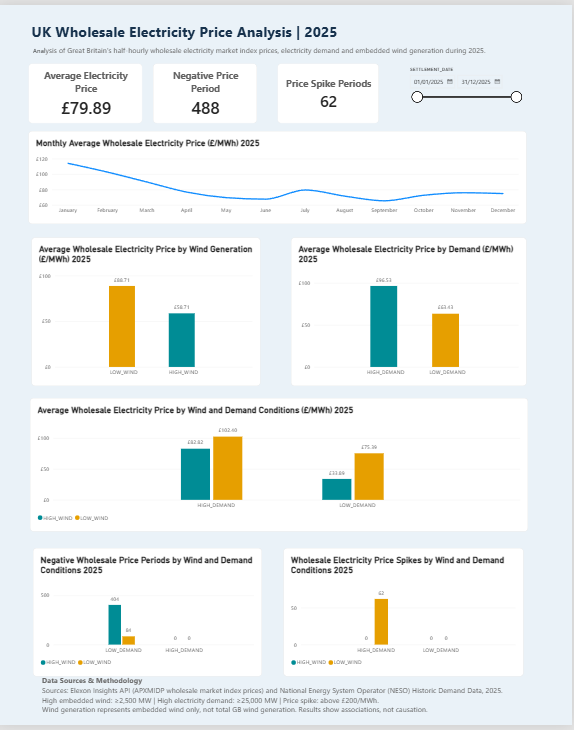

Layout of this report page (visuals, bound fields, positions):
{"tool":"powerbi","page":{"name":"Page 1","canvas":[1280,1600],"ordinal":0},"visuals":[{"type":"cardVisual","fields":{"Data":["POWERBI_ELECTRICITY_2025.Average Electricity Price"]},"box":[70,130,253.3,133.3],"z":0},{"type":"cardVisual","fields":{"Data":["Sum(POWERBI_ELECTRICITY_2025.NEGATIVE_PRICE_FLAG)"]},"box":[346.7,130,231.7,133.3],"z":1000},{"type":"cardVisual","fields":{"Data":["POWERBI_ELECTRICITY_2025.Price Spike Periods"]},"box":[623.3,130,225,133.3],"z":2000},{"type":"lineChart","title":"Monthly Average Wholesale Electricity Price (£/MWh) 2025","fields":{"Category":["POWERBI_ELECTRICITY_2025.SETTLEMENT_DATE.Variation.Date Hierarchy.Month"],"Y":["POWERBI_ELECTRICITY_2025.Average Electricity Price"]},"box":[70,280,1106.7,206.7],"z":3000},{"type":"clusteredColumnChart","title":"Average Wholesale Electricity Price by Wind Generation (£/MWh) 2025","fields":{"Category":["POWERBI_ELECTRICITY_2025.WIND_CATEGORY"],"Y":["POWERBI_ELECTRICITY_2025.Average Electricity Price"]},"box":[76.7,515,508.3,330],"z":4000},{"type":"clusteredColumnChart","title":"Average Wholesale Electricity Price by Demand (£/MWh) 2025","fields":{"Category":["POWERBI_ELECTRICITY_2025.DEMAND_CATEGORY"],"Y":["POWERBI_ELECTRICITY_2025.Average Electricity Price"]},"box":[653.3,515,523.3,330],"z":5000},{"type":"clusteredColumnChart","title":"Average Wholesale Electricity Price by Wind and Demand Conditions (£/MWh) 2025","fields":{"Category":["POWERBI_ELECTRICITY_2025.DEMAND_CATEGORY"],"Series":["POWERBI_ELECTRICITY_2025.WIND_CATEGORY"],"Y":["POWERBI_ELECTRICITY_2025.Average Electricity Price"]},"box":[73.3,873.3,1106.7,296.7],"z":6000},{"type":"clusteredColumnChart","title":"Negative Wholesale Price Periods by Wind and Demand Conditions 2025","fields":{"Category":["POWERBI_ELECTRICITY_2025.DEMAND_CATEGORY"],"Series":["POWERBI_ELECTRICITY_2025.WIND_CATEGORY"],"Y":["Sum(POWERBI_ELECTRICITY_2025.NEGATIVE_PRICE_FLAG)"]},"box":[78.3,1205,508.3,285],"z":7000},{"type":"clusteredColumnChart","title":"Wholesale Electricity Price Spikes by Wind and Demand Conditions 2025","fields":{"Category":["POWERBI_ELECTRICITY_2025.DEMAND_CATEGORY"],"Series":["POWERBI_ELECTRICITY_2025.WIND_CATEGORY"],"Y":["POWERBI_ELECTRICITY_2025.Price Spike Periods"]},"box":[636.7,1205,533.3,285],"z":8000},{"type":"textbox","box":[76.7,36.7,1040,53.3],"z":9000},{"type":"textbox","box":[76.7,1533.3,1100,66.7],"z":10000},{"type":"slicer","fields":{"Values":["POWERBI_ELECTRICITY_2025.SETTLEMENT_DATE"]},"box":[910,136.7,260,120],"z":11000},{"type":"textbox","box":[100,1490,1120,110],"z":11001},{"type":"textbox","box":[80,90,1013.3,106.7],"z":11002}]}

Visuals, with their boxes in screenshot pixels (x1, y1, x2, y2), scaled from the page's 1280x1600 canvas onto the 574x730 screenshot:
cardVisual - POWERBI_ELECTRICITY_2025.Average Electricity Price: [x1=31, y1=59, x2=145, y2=120]
cardVisual - Sum(POWERBI_ELECTRICITY_2025.NEGATIVE_PRICE_FLAG): [x1=155, y1=59, x2=259, y2=120]
cardVisual - POWERBI_ELECTRICITY_2025.Price Spike Periods: [x1=280, y1=59, x2=380, y2=120]
"Monthly Average Wholesale Electricity Price (£/MWh) 2025" lineChart: [x1=31, y1=128, x2=528, y2=222]
"Average Wholesale Electricity Price by Wind Generation (£/MWh) 2025" clusteredColumnChart: [x1=34, y1=235, x2=262, y2=386]
"Average Wholesale Electricity Price by Demand (£/MWh) 2025" clusteredColumnChart: [x1=293, y1=235, x2=528, y2=386]
"Average Wholesale Electricity Price by Wind and Demand Conditions (£/MWh) 2025" clusteredColumnChart: [x1=33, y1=398, x2=529, y2=534]
"Negative Wholesale Price Periods by Wind and Demand Conditions 2025" clusteredColumnChart: [x1=35, y1=550, x2=263, y2=680]
"Wholesale Electricity Price Spikes by Wind and Demand Conditions 2025" clusteredColumnChart: [x1=286, y1=550, x2=525, y2=680]
textbox: [x1=34, y1=17, x2=501, y2=41]
textbox: [x1=34, y1=700, x2=528, y2=729]
slicer - POWERBI_ELECTRICITY_2025.SETTLEMENT_DATE: [x1=408, y1=62, x2=525, y2=117]
textbox: [x1=45, y1=680, x2=547, y2=729]
textbox: [x1=36, y1=41, x2=490, y2=90]
